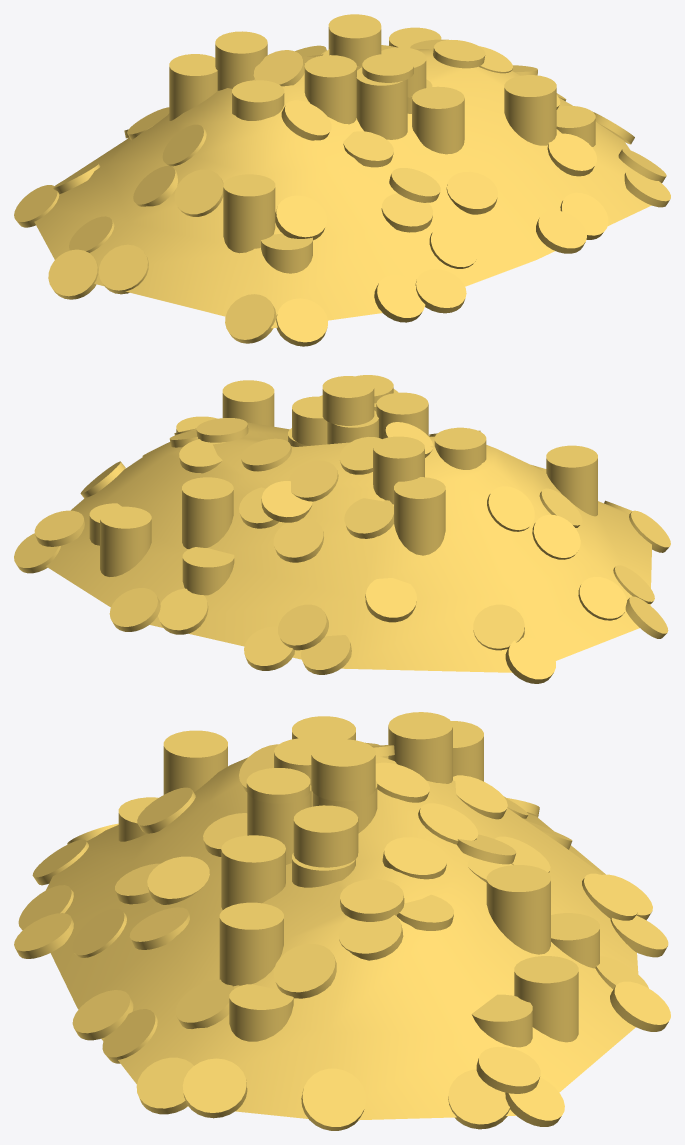
Rendered from SM_FW01_CoinPile_02.fbx.
3 renders of one model, top to bottom at view 1: azimuth 30°, elevation 25°; view 2: azimuth 150°, elevation 25°; view 3: azimuth 270°, elevation 25°, orthographic. The views are drawn at different scales.
Parts seen in each view (by area): view 1: SM_FW01_CoinPile_02_LOD0; view 2: SM_FW01_CoinPile_02_LOD0; view 3: SM_FW01_CoinPile_02_LOD0.
Boxes of the visible parts, box(x1,y1,x2,y2) form: SM_FW01_CoinPile_02_LOD0: box(14, 14, 670, 346); SM_FW01_CoinPile_02_LOD0: box(14, 375, 670, 683); SM_FW01_CoinPile_02_LOD0: box(14, 712, 670, 1130).
Size of what is drawn, in the model's own units: 1.4 by 0.4321 by 1.12.
